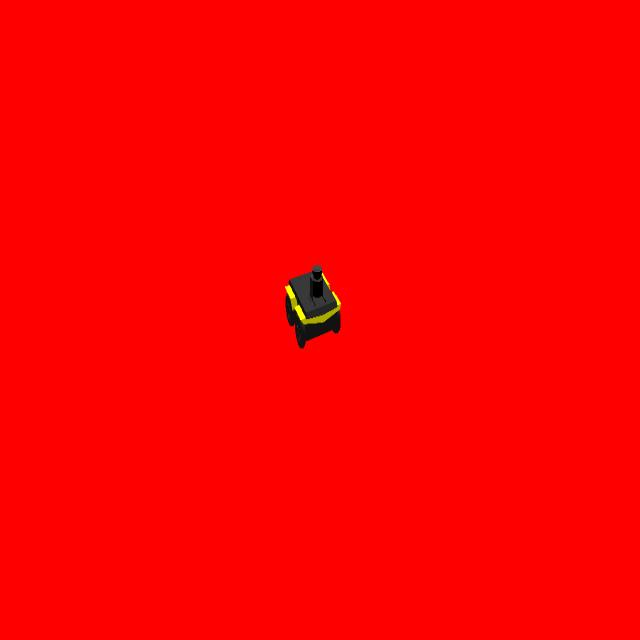jackal: (283, 263, 342, 349)
